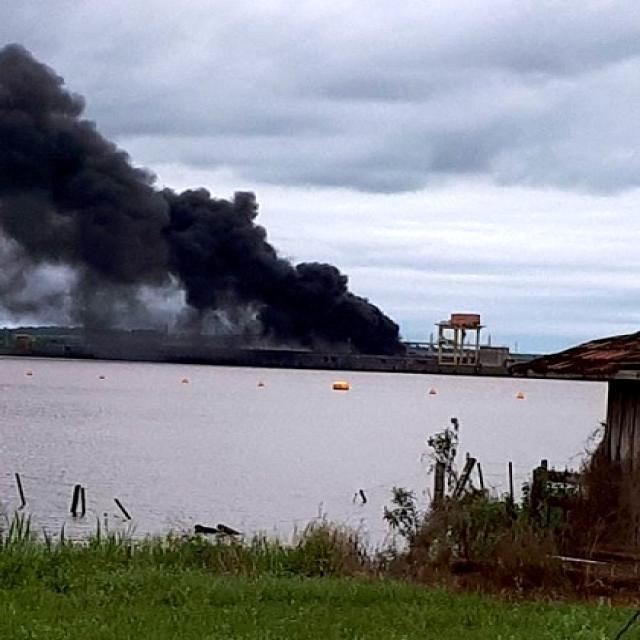Smoke: (0, 46, 421, 352)
